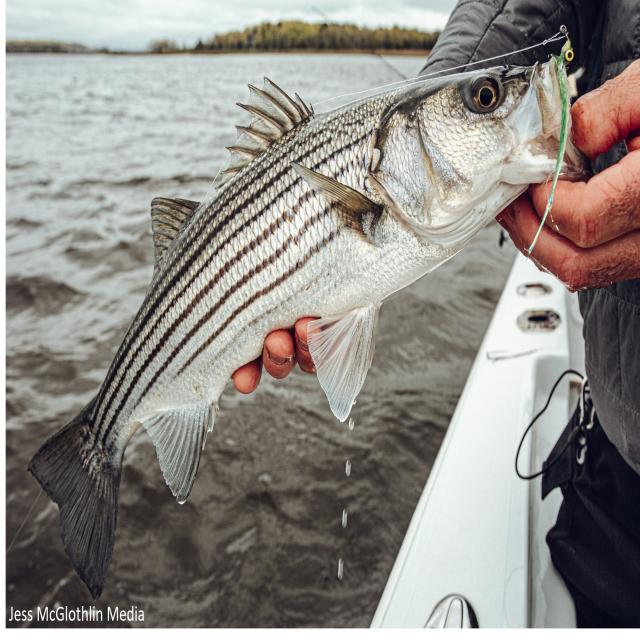Bass - Striped: (29, 59, 590, 598)
